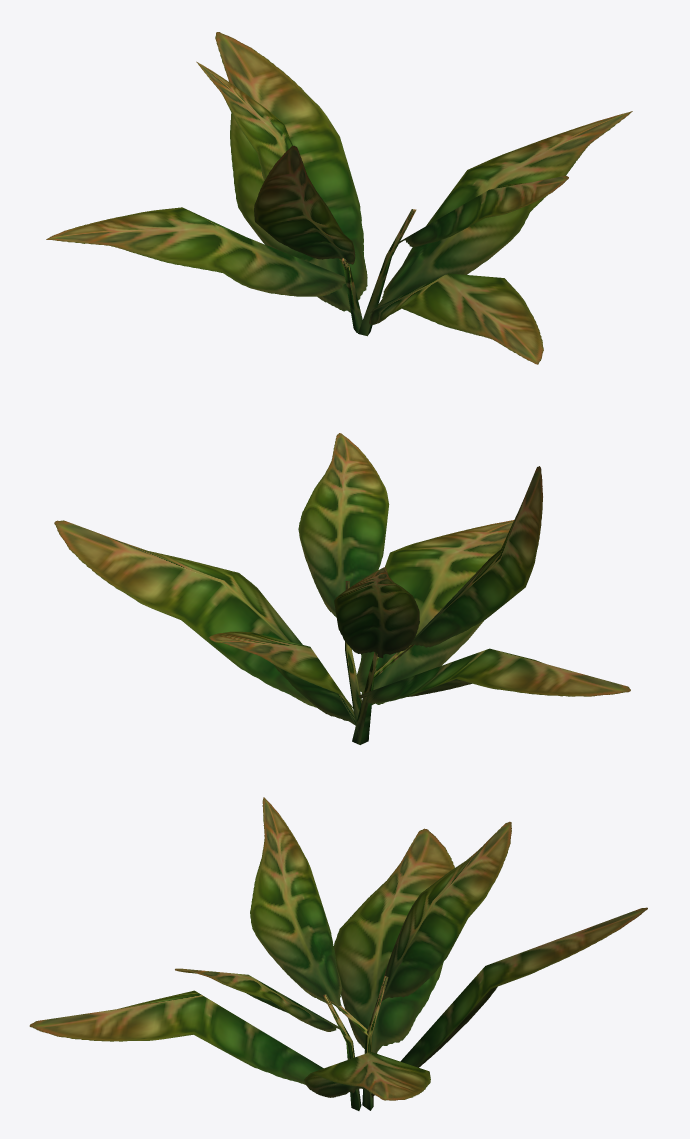
File: fxmg_plant5.FBX
3 renders of one model, top to bottom at view 1: azimuth 30°, elevation 25°; view 2: azimuth 150°, elevation 25°; view 3: azimuth 270°, elevation 25°, orthographic. The views are drawn at different scales.
Visible parts, largest first — view 1: KLMSM_plant5; view 2: KLMSM_plant5; view 3: KLMSM_plant5.
Boxes of the visible parts, <box> form: KLMSM_plant5: <box>46,32,632,364</box>; KLMSM_plant5: <box>54,433,630,744</box>; KLMSM_plant5: <box>29,797,647,1110</box>.
Bounding box in the file's own units: 1170 × 494 × 1110.
